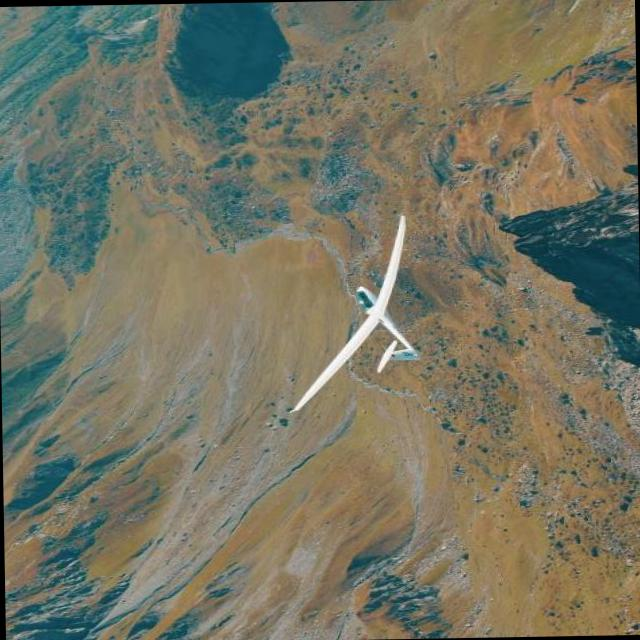UAV: (264, 205, 462, 428)
